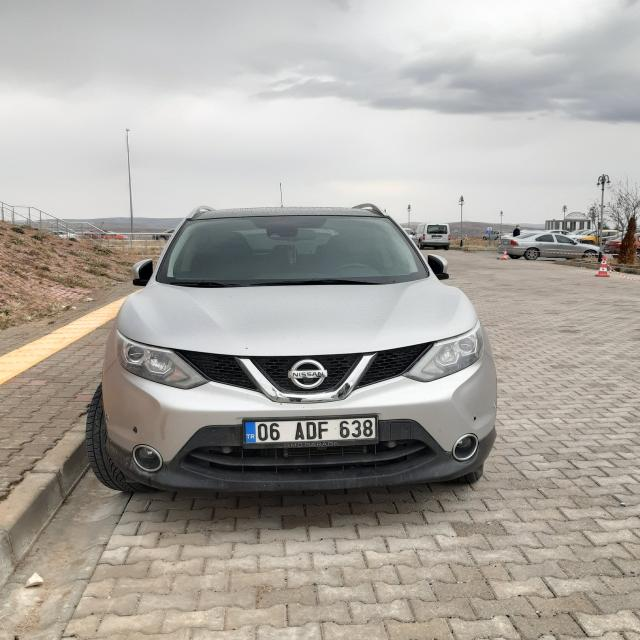license_plate: (244, 416, 378, 448)
